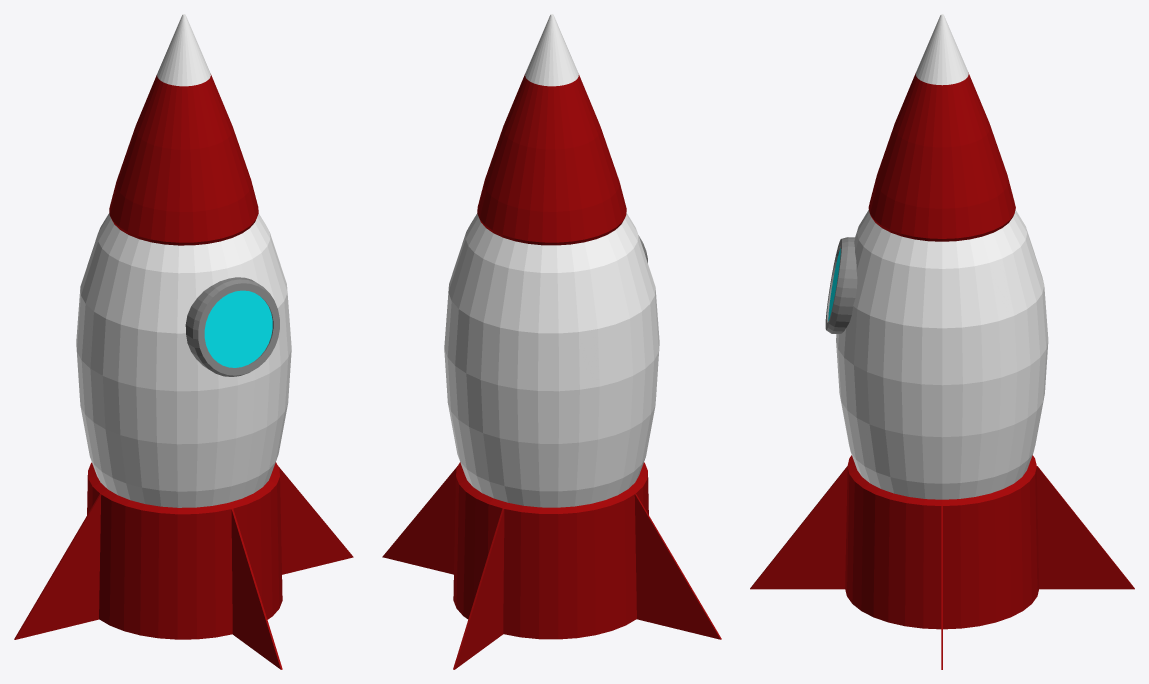
File: Cohete.fbx
3 views of the same model, side by side, from view 1: azimuth 30°, elevation 25°; view 2: azimuth 150°, elevation 25°; view 3: azimuth 270°, elevation 25° (orthographic).
Visible parts, largest first — view 1: Rocket; view 2: Rocket; view 3: Rocket.
Boxes of the visible parts, x1,y1,x2,y2 form: Rocket: (14, 14, 353, 669); Rocket: (382, 14, 721, 669); Rocket: (750, 14, 1134, 669).
Bounding box in the file's own units: 667 × 1097 × 667.
